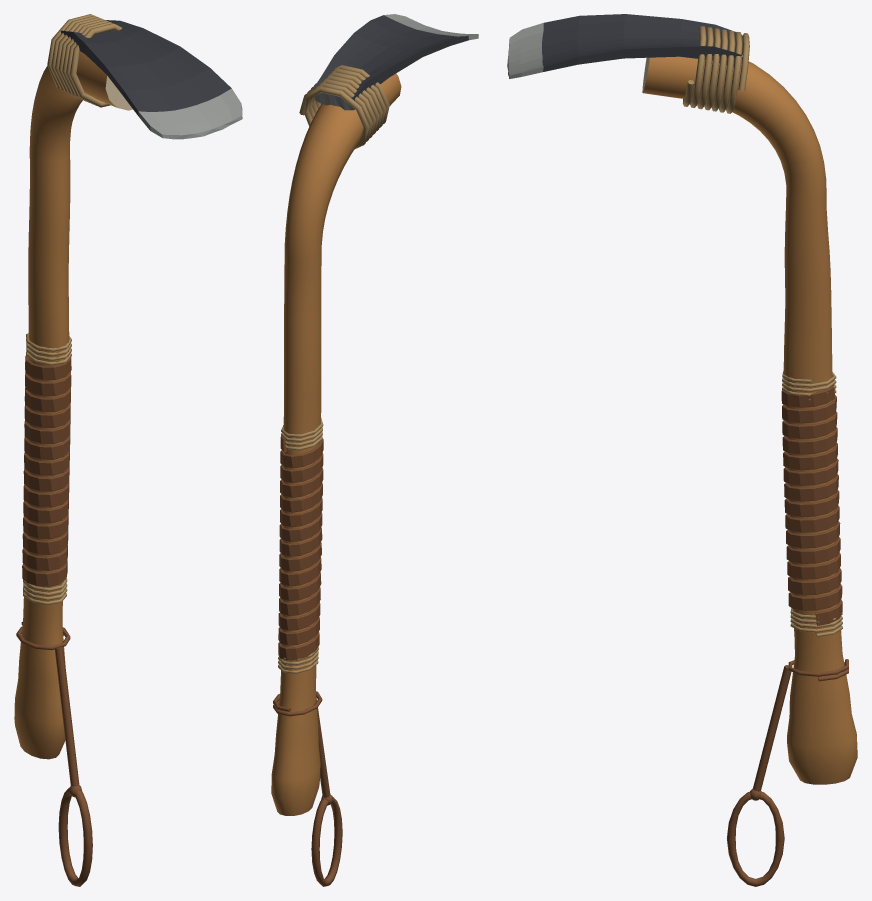
File: tool_adze.fbx
3 views of the same model, side by side, from view 1: azimuth 30°, elevation 25°; view 2: azimuth 150°, elevation 25°; view 3: azimuth 270°, elevation 25° (orthographic). The views are drawn at different scales.
Visible parts, largest first — view 1: Tool_Adze_Haft, Tool_Adze_Grip, Tool_Adze_Blade, Tool_Adze_Thong, Tool_Adze_Lashing; view 2: Tool_Adze_Haft, Tool_Adze_Grip, Tool_Adze_Blade, Tool_Adze_Lashing, Tool_Adze_Thong; view 3: Tool_Adze_Haft, Tool_Adze_Grip, Tool_Adze_Blade, Tool_Adze_Lashing, Tool_Adze_Thong.
Part boxes in pixels (x1=…): Tool_Adze_Haft: x1=14, y1=51, x2=132, y2=759; Tool_Adze_Grip: x1=22, y1=333, x2=71, y2=604; Tool_Adze_Blade: x1=61, y1=20, x2=242, y2=139; Tool_Adze_Thong: x1=16, y1=621, x2=92, y2=886; Tool_Adze_Lashing: x1=47, y1=14, x2=121, y2=107; Tool_Adze_Haft: x1=271, y1=73, x2=401, y2=815; Tool_Adze_Grip: x1=278, y1=417, x2=323, y2=673; Tool_Adze_Blade: x1=313, y1=14, x2=478, y2=110; Tool_Adze_Lashing: x1=299, y1=65, x2=389, y2=149; Tool_Adze_Thong: x1=273, y1=691, x2=342, y2=886; Tool_Adze_Haft: x1=642, y1=56, x2=857, y2=784; Tool_Adze_Grip: x1=781, y1=371, x2=842, y2=636; Tool_Adze_Blade: x1=507, y1=14, x2=741, y2=78; Tool_Adze_Lashing: x1=683, y1=26, x2=749, y2=113; Tool_Adze_Thong: x1=727, y1=659, x2=848, y2=886.
Size of the model in its own units: 9.44 by 84.74 by 31.45.
